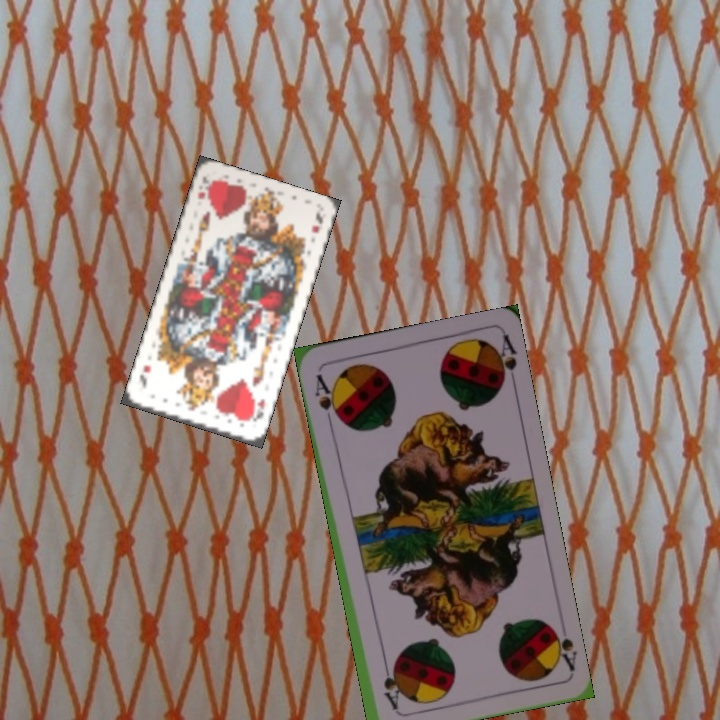HK: (193, 172, 216, 202), (245, 394, 268, 424)
SA: (544, 619, 579, 674), (311, 369, 342, 424)
